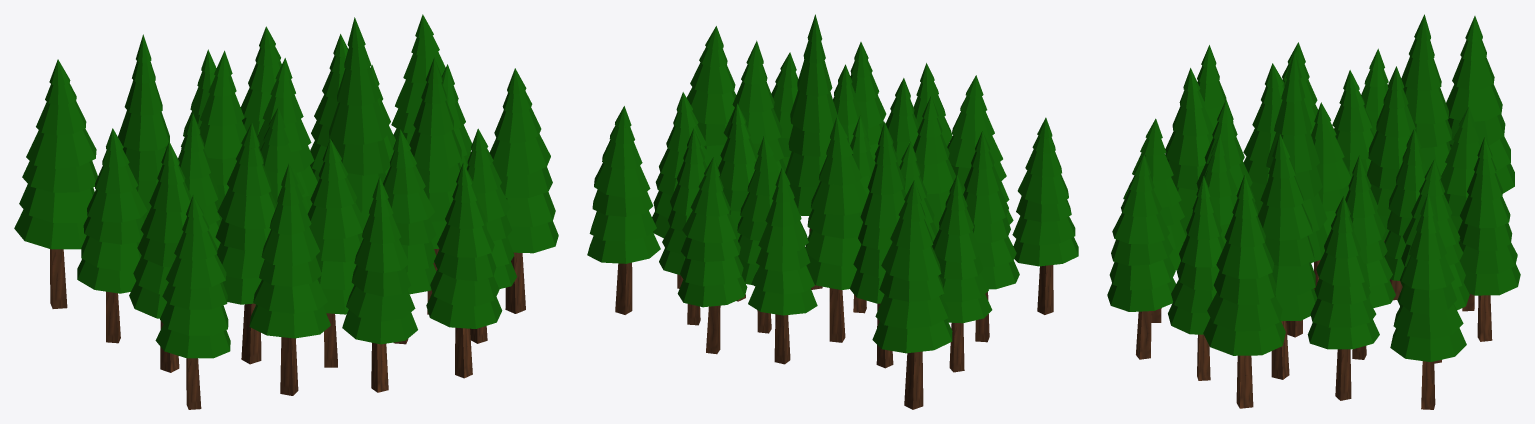
Rendered from Forest.fbx.
3 renders of one model, left to right at view 1: azimuth 30°, elevation 25°; view 2: azimuth 150°, elevation 25°; view 3: azimuth 270°, elevation 25°, orthographic. The views are drawn at different scales.
Parts seen in each view (by area): view 1: Feuillage.023, Feuillage.006, Feuillage.022, Feuillage, Feuillage.020, Feuillage.002, Feuillage.019, Feuillage.007, Feuillage.009, Feuillage.003, Feuillage.018, Feuillage.005 (+22 smaller); view 2: Feuillage.023, Feuillage.024, Feuillage.013, Feuillage.021, Feuillage.022, Feuillage.016, Feuillage.009, Feuillage.015, Feuillage.019, Feuillage.018, Feuillage.020, Feuillage.014 (+20 smaller); view 3: Feuillage.020, Feuillage.024, Feuillage, Feuillage.012, Feuillage.005, Feuillage.021, Feuillage.004, Feuillage.023, Feuillage.009, Feuillage.015, Feuillage.006, Feuillage.013 (+20 smaller).
Boxes of the visible parts, x1,y1,x2,y2 form: Feuillage.023: (14,59,97,249); Feuillage.006: (249,163,330,338); Feuillage.022: (155,195,230,358); Feuillage: (426,162,502,328); Feuillage.020: (489,68,558,253); Feuillage.002: (342,177,417,344); Feuillage.019: (77,128,147,293); Feuillage.007: (215,123,276,304); Feuillage.009: (329,17,389,222); Feuillage.003: (307,139,366,314); Feuillage.018: (129,141,191,318); Feuillage.005: (409,57,461,248); Feuillage.023: (872,180,952,353); Feuillage.024: (587,106,660,263); Feuillage.013: (805,117,867,289); Feuillage.021: (677,156,747,307); Feuillage.022: (1012,117,1078,266); Feuillage.016: (748,167,817,315); Feuillage.009: (785,14,839,215); Feuillage.015: (850,121,906,303); Feuillage.019: (932,175,992,323); Feuillage.018: (963,131,1019,289); Feuillage.020: (686,26,736,167); Feuillage.014: (737,136,779,285); Feuillage.020: (1203,174,1285,355); Feuillage.024: (1390,193,1466,361); Feuillage: (1107,154,1175,311); Feuillage.012: (1307,196,1379,349); Feuillage.005: (1258,133,1317,321); Feuillage.021: (1458,137,1520,295); Feuillage.004: (1168,176,1224,334); Feuillage.023: (1446,16,1514,193); Feuillage.009: (1266,50,1327,262); Feuillage.015: (1401,14,1452,175); Feuillage.006: (1165,68,1213,236); Feuillage.013: (1367,66,1415,240).
Size of the model in its own units: 985 by 702 by 895.
Materials: 2 (1 with a texture image).
